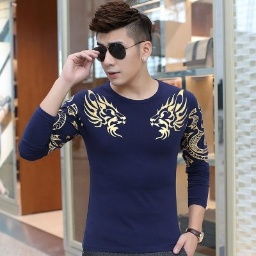face: (90, 2, 155, 87)
